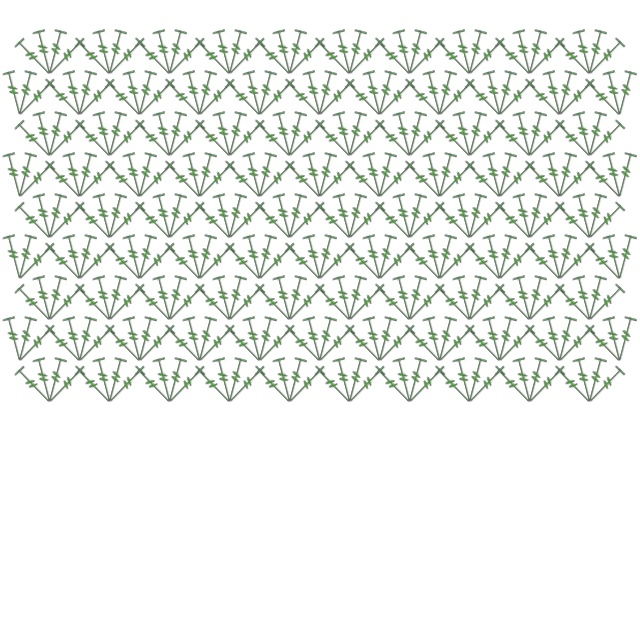fan: (13, 37, 55, 80), (45, 37, 87, 80), (73, 37, 115, 80), (105, 37, 147, 80), (133, 37, 175, 80), (165, 37, 207, 80), (193, 37, 235, 80), (225, 37, 267, 80), (253, 37, 295, 80), (285, 37, 327, 80), (313, 37, 355, 80), (345, 37, 387, 80), (373, 37, 415, 80), (405, 37, 447, 80), (433, 37, 475, 80), (465, 37, 507, 80), (493, 37, 535, 80), (525, 37, 567, 80), (553, 37, 595, 80), (585, 37, 627, 80), (15, 78, 57, 121), (43, 78, 85, 121), (75, 78, 117, 121), (103, 78, 145, 121), (135, 78, 177, 121), (163, 78, 205, 121), (195, 78, 237, 121), (223, 78, 265, 121), (255, 78, 297, 121), (283, 78, 325, 121), (315, 78, 357, 121), (343, 78, 385, 121), (375, 78, 417, 121), (403, 78, 445, 121), (435, 78, 477, 121), (463, 78, 505, 121), (495, 78, 537, 121), (523, 78, 565, 121), (555, 78, 597, 121), (583, 78, 625, 121), (13, 119, 55, 162), (45, 119, 87, 162), (73, 119, 115, 162), (105, 119, 147, 162), (133, 119, 175, 162), (165, 119, 207, 162), (193, 119, 235, 162), (225, 119, 267, 162), (253, 119, 295, 162), (285, 119, 327, 162), (313, 119, 355, 162), (345, 119, 387, 162), (373, 119, 415, 162), (405, 119, 447, 162), (433, 119, 475, 162), (465, 119, 507, 162), (493, 119, 535, 162), (525, 119, 567, 162), (553, 119, 595, 162), (585, 119, 627, 162), (15, 160, 57, 203), (43, 160, 85, 203), (75, 160, 117, 203), (103, 160, 145, 203), (135, 160, 177, 203), (163, 160, 205, 203), (195, 160, 237, 203), (223, 160, 265, 203), (255, 160, 297, 203), (283, 160, 325, 203), (315, 160, 357, 203), (343, 160, 385, 203), (375, 160, 417, 203), (403, 160, 445, 203), (435, 160, 477, 203), (463, 160, 505, 203), (495, 160, 537, 203), (523, 160, 565, 203), (555, 160, 597, 203), (583, 160, 625, 203), (13, 201, 55, 244), (45, 201, 87, 244), (73, 201, 115, 244), (105, 201, 147, 244), (133, 201, 175, 244), (165, 201, 207, 244), (193, 201, 235, 244), (225, 201, 267, 244), (253, 201, 295, 244), (285, 201, 327, 244), (313, 201, 355, 244), (345, 201, 387, 244), (373, 201, 415, 244), (405, 201, 447, 244), (433, 201, 475, 244), (465, 201, 507, 244), (493, 201, 535, 244), (525, 201, 567, 244), (553, 201, 595, 244), (585, 201, 627, 244), (15, 242, 57, 285), (43, 242, 85, 285), (75, 242, 117, 285), (103, 242, 145, 285), (135, 242, 177, 285), (163, 242, 205, 285), (195, 242, 237, 285), (223, 242, 265, 285), (255, 242, 297, 285), (283, 242, 325, 285), (315, 242, 357, 285), (343, 242, 385, 285), (375, 242, 417, 285), (403, 242, 445, 285), (435, 242, 477, 285), (463, 242, 505, 285), (495, 242, 537, 285), (523, 242, 565, 285), (555, 242, 597, 285), (583, 242, 625, 285), (13, 283, 55, 326), (45, 283, 87, 326), (73, 283, 115, 326), (105, 283, 147, 326), (133, 283, 175, 326), (165, 283, 207, 326), (193, 283, 235, 326), (225, 283, 267, 326), (253, 283, 295, 326), (285, 283, 327, 326), (313, 283, 355, 326), (345, 283, 387, 326), (373, 283, 415, 326), (405, 283, 447, 326), (433, 283, 475, 326), (465, 283, 507, 326), (493, 283, 535, 326), (525, 283, 567, 326), (553, 283, 595, 326), (585, 283, 627, 326), (15, 324, 57, 367), (43, 324, 85, 367), (75, 324, 117, 367), (103, 324, 145, 367), (135, 324, 177, 367), (163, 324, 205, 367), (195, 324, 237, 367), (223, 324, 265, 367), (255, 324, 297, 367), (283, 324, 325, 367), (315, 324, 357, 367), (343, 324, 385, 367), (375, 324, 417, 367), (403, 324, 445, 367), (435, 324, 477, 367), (463, 324, 505, 367), (495, 324, 537, 367), (523, 324, 565, 367), (555, 324, 597, 367), (583, 324, 625, 367), (13, 365, 55, 408), (45, 365, 87, 408), (73, 365, 115, 408), (105, 365, 147, 408), (133, 365, 175, 408), (165, 365, 207, 408), (193, 365, 235, 408), (225, 365, 267, 408), (253, 365, 295, 408), (285, 365, 327, 408), (313, 365, 355, 408), (345, 365, 387, 408), (373, 365, 415, 408), (405, 365, 447, 408), (433, 365, 475, 408), (465, 365, 507, 408), (493, 365, 535, 408), (525, 365, 567, 408), (553, 365, 595, 408), (585, 365, 627, 408), (31, 29, 57, 77), (43, 29, 69, 77), (91, 29, 117, 77), (103, 29, 129, 77), (151, 29, 177, 77), (163, 29, 189, 77), (211, 29, 237, 77), (223, 29, 249, 77), (271, 29, 297, 77), (283, 29, 309, 77), (331, 29, 357, 77), (343, 29, 369, 77), (391, 29, 417, 77), (403, 29, 429, 77), (451, 29, 477, 77), (463, 29, 489, 77), (511, 29, 537, 77), (523, 29, 549, 77), (571, 29, 597, 77), (583, 29, 609, 77), (1, 70, 27, 118), (13, 70, 39, 118), (61, 70, 87, 118), (73, 70, 99, 118), (121, 70, 147, 118), (133, 70, 159, 118), (181, 70, 207, 118), (193, 70, 219, 118), (241, 70, 267, 118), (253, 70, 279, 118), (301, 70, 327, 118), (313, 70, 339, 118), (361, 70, 387, 118), (373, 70, 399, 118), (421, 70, 447, 118), (433, 70, 459, 118), (481, 70, 507, 118), (493, 70, 519, 118), (541, 70, 567, 118), (553, 70, 579, 118), (601, 70, 627, 118), (613, 70, 639, 118), (31, 111, 57, 159), (43, 111, 69, 159), (91, 111, 117, 159), (103, 111, 129, 159), (151, 111, 177, 159), (163, 111, 189, 159), (211, 111, 237, 159), (223, 111, 249, 159), (271, 111, 297, 159), (283, 111, 309, 159), (331, 111, 357, 159), (343, 111, 369, 159), (391, 111, 417, 159), (403, 111, 429, 159), (451, 111, 477, 159), (463, 111, 489, 159), (511, 111, 537, 159), (523, 111, 549, 159), (571, 111, 597, 159), (583, 111, 609, 159), (1, 152, 27, 200), (13, 152, 39, 200), (61, 152, 87, 200), (73, 152, 99, 200), (121, 152, 147, 200), (133, 152, 159, 200), (181, 152, 207, 200), (193, 152, 219, 200), (241, 152, 267, 200), (253, 152, 279, 200), (301, 152, 327, 200), (313, 152, 339, 200), (361, 152, 387, 200), (373, 152, 399, 200), (421, 152, 447, 200), (433, 152, 459, 200), (481, 152, 507, 200), (493, 152, 519, 200), (541, 152, 567, 200), (553, 152, 579, 200), (601, 152, 627, 200), (613, 152, 639, 200), (31, 193, 57, 241), (43, 193, 69, 241), (91, 193, 117, 241), (103, 193, 129, 241), (151, 193, 177, 241), (163, 193, 189, 241), (211, 193, 237, 241), (223, 193, 249, 241), (271, 193, 297, 241), (283, 193, 309, 241), (331, 193, 357, 241), (343, 193, 369, 241), (391, 193, 417, 241), (403, 193, 429, 241), (451, 193, 477, 241), (463, 193, 489, 241), (511, 193, 537, 241), (523, 193, 549, 241), (571, 193, 597, 241), (583, 193, 609, 241), (1, 234, 27, 282), (13, 234, 39, 282), (61, 234, 87, 282), (73, 234, 99, 282), (121, 234, 147, 282), (133, 234, 159, 282), (181, 234, 207, 282), (193, 234, 219, 282), (241, 234, 267, 282), (253, 234, 279, 282), (301, 234, 327, 282), (313, 234, 339, 282), (361, 234, 387, 282), (373, 234, 399, 282), (421, 234, 447, 282), (433, 234, 459, 282), (481, 234, 507, 282), (493, 234, 519, 282), (541, 234, 567, 282), (553, 234, 579, 282), (601, 234, 627, 282), (613, 234, 639, 282), (31, 275, 57, 323), (43, 275, 69, 323), (91, 275, 117, 323), (103, 275, 129, 323), (151, 275, 177, 323), (163, 275, 189, 323), (211, 275, 237, 323), (223, 275, 249, 323), (271, 275, 297, 323), (283, 275, 309, 323), (331, 275, 357, 323), (343, 275, 369, 323), (391, 275, 417, 323), (403, 275, 429, 323), (451, 275, 477, 323), (463, 275, 489, 323), (511, 275, 537, 323), (523, 275, 549, 323), (571, 275, 597, 323), (583, 275, 609, 323), (1, 316, 27, 364), (13, 316, 39, 364), (61, 316, 87, 364), (73, 316, 99, 364), (121, 316, 147, 364), (133, 316, 159, 364), (181, 316, 207, 364), (193, 316, 219, 364), (241, 316, 267, 364), (253, 316, 279, 364), (301, 316, 327, 364), (313, 316, 339, 364), (361, 316, 387, 364), (373, 316, 399, 364), (421, 316, 447, 364), (433, 316, 459, 364), (481, 316, 507, 364), (493, 316, 519, 364), (541, 316, 567, 364), (553, 316, 579, 364), (601, 316, 627, 364), (613, 316, 639, 364), (31, 357, 57, 405), (43, 357, 69, 405), (91, 357, 117, 405), (103, 357, 129, 405), (151, 357, 177, 405), (163, 357, 189, 405), (211, 357, 237, 405), (223, 357, 249, 405), (271, 357, 297, 405), (283, 357, 309, 405), (331, 357, 357, 405), (343, 357, 369, 405), (391, 357, 417, 405), (403, 357, 429, 405), (451, 357, 477, 405), (463, 357, 489, 405), (511, 357, 537, 405), (523, 357, 549, 405), (571, 357, 597, 405), (583, 357, 609, 405)
